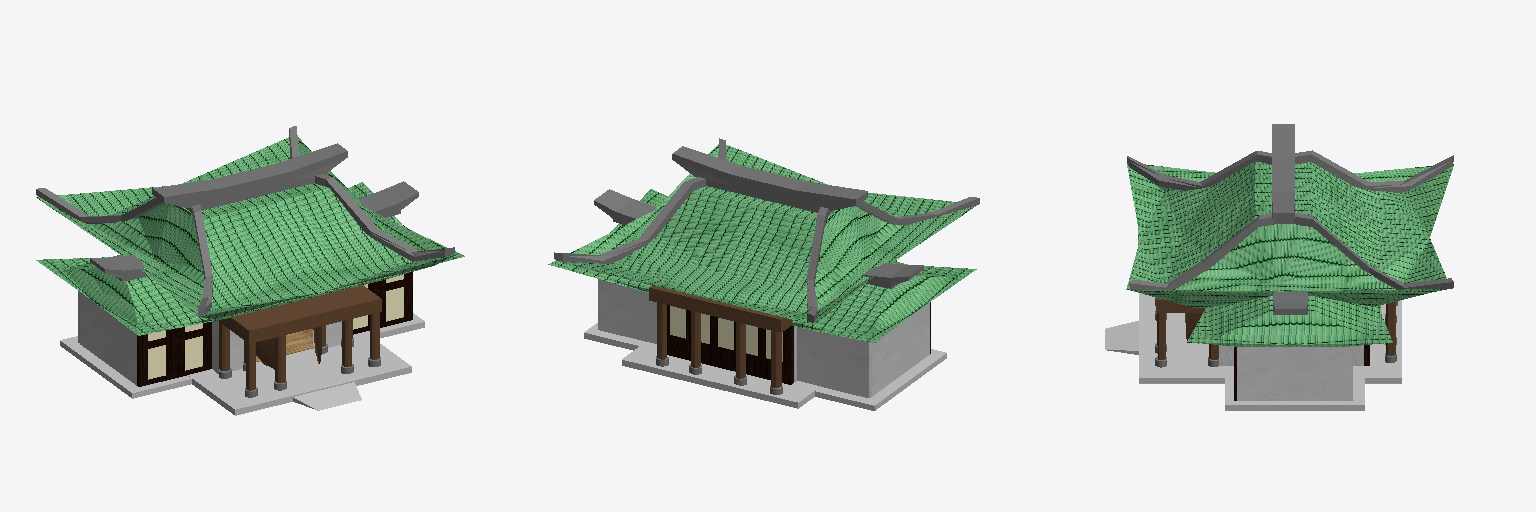
The picture shows the model from 3 angles: view 1: azimuth 30°, elevation 25°; view 2: azimuth 150°, elevation 25°; view 3: azimuth 270°, elevation 25°; orthographic projection.
Visible parts, largest first — view 1: modelo_Casa2:polySurface2; view 2: modelo_Casa2:polySurface2; view 3: modelo_Casa2:polySurface2.
Part boxes in pixels (left/top/right/bottom): modelo_Casa2:polySurface2: left=36, top=126, right=464, bottom=415; modelo_Casa2:polySurface2: left=548, top=138, right=979, bottom=410; modelo_Casa2:polySurface2: left=1105, top=124, right=1453, bottom=410.
Size of the model in its own units: 80.67 by 40.51 by 74.65.
Materials: 17 (9 with a texture image).